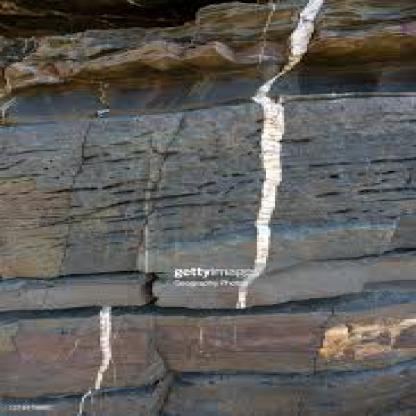Metamorphic_Quartize: (14, 94, 409, 278), (18, 308, 414, 374), (9, 18, 407, 82)
